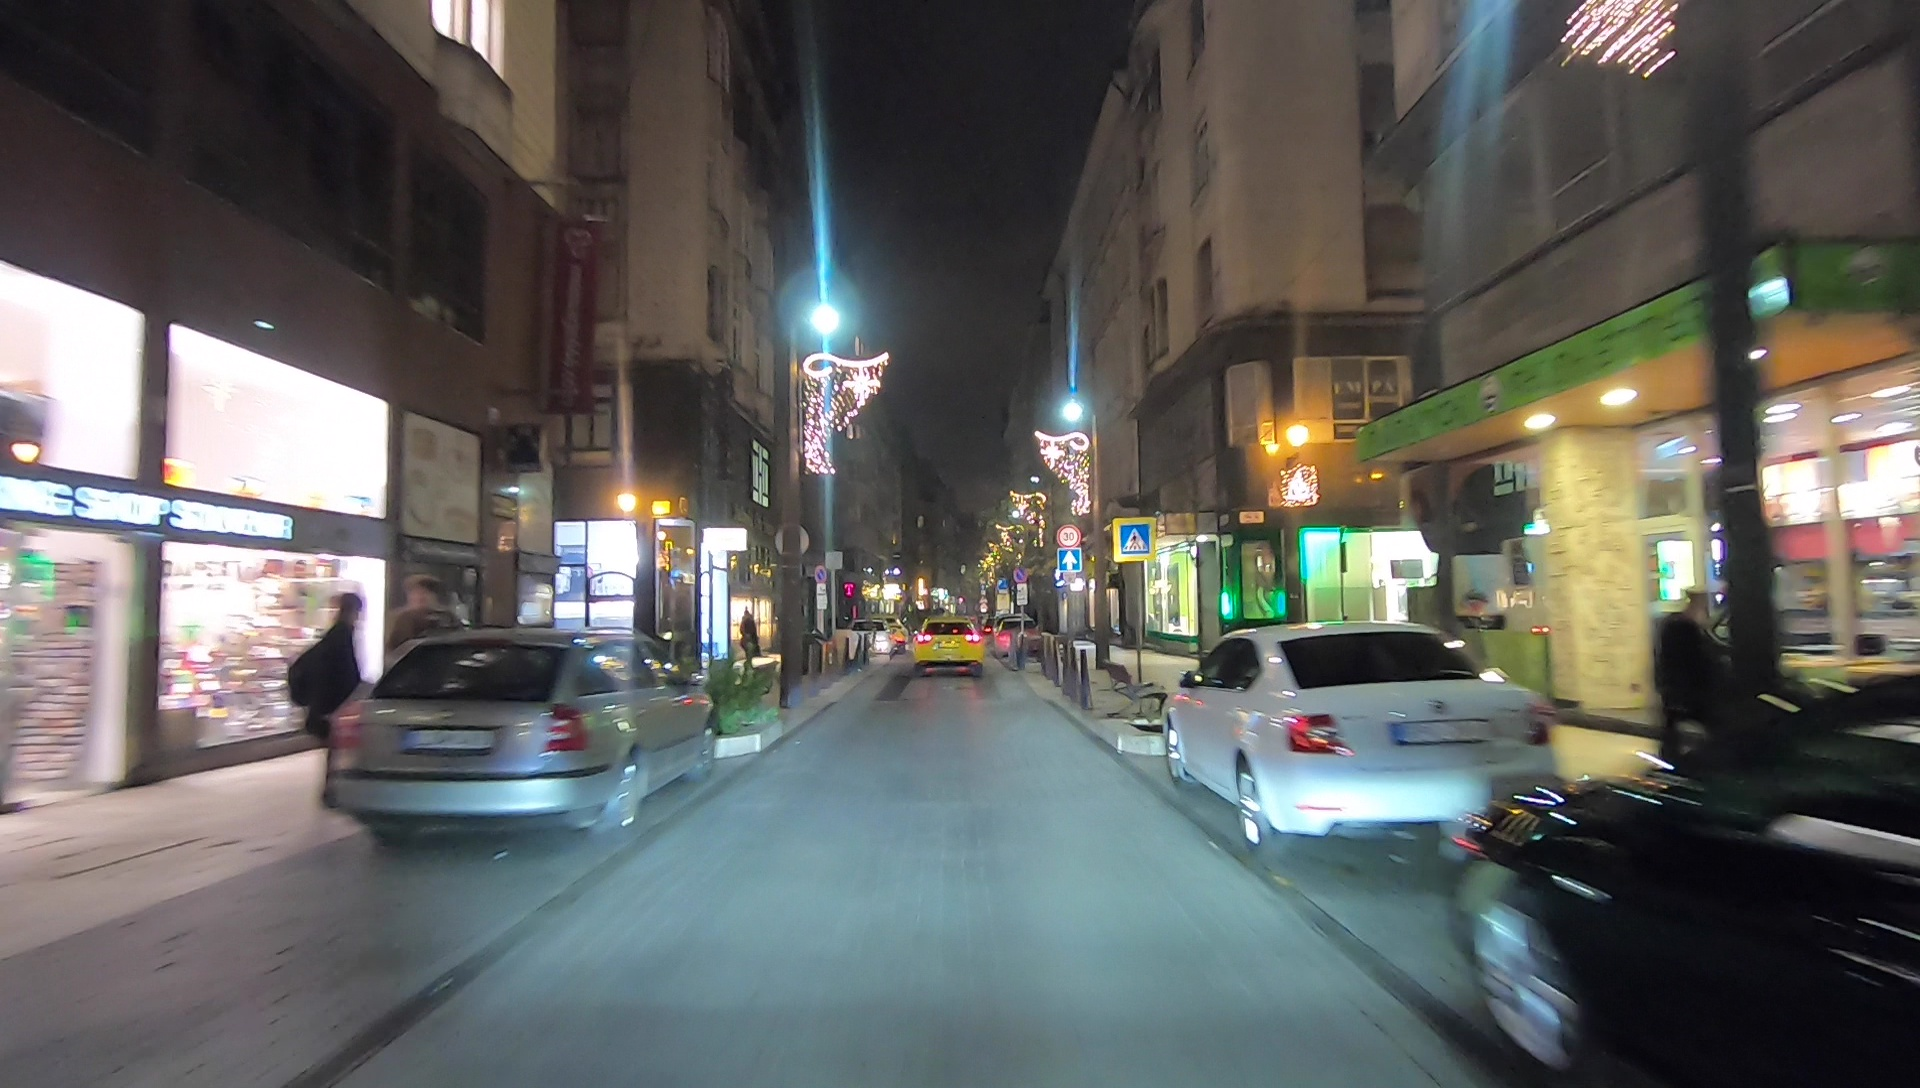person: (1647, 591, 1719, 789), (297, 587, 360, 804), (738, 608, 760, 680)
